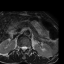CCS_normal: (23, 44, 25, 53)
LFS_normal: (27, 44, 29, 50)
LLS_normal: (25, 44, 27, 51)
RFS_normal: (19, 44, 21, 50)
RLS_normal: (21, 44, 23, 51)
